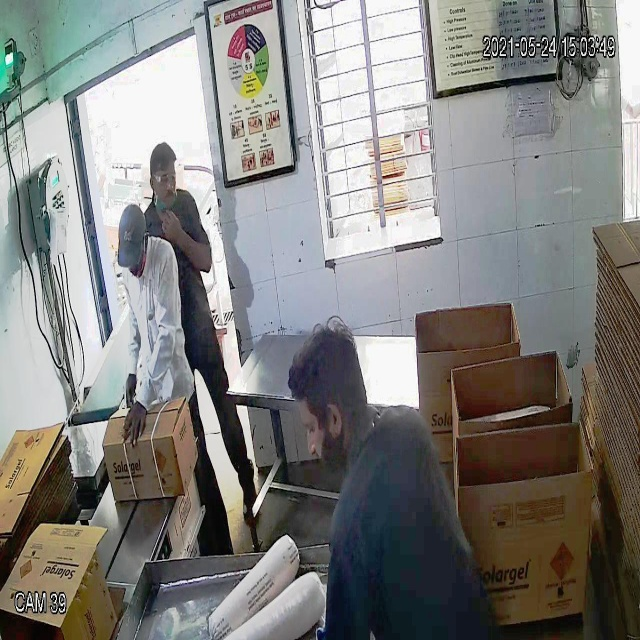Gafas: (148, 171, 180, 192)
